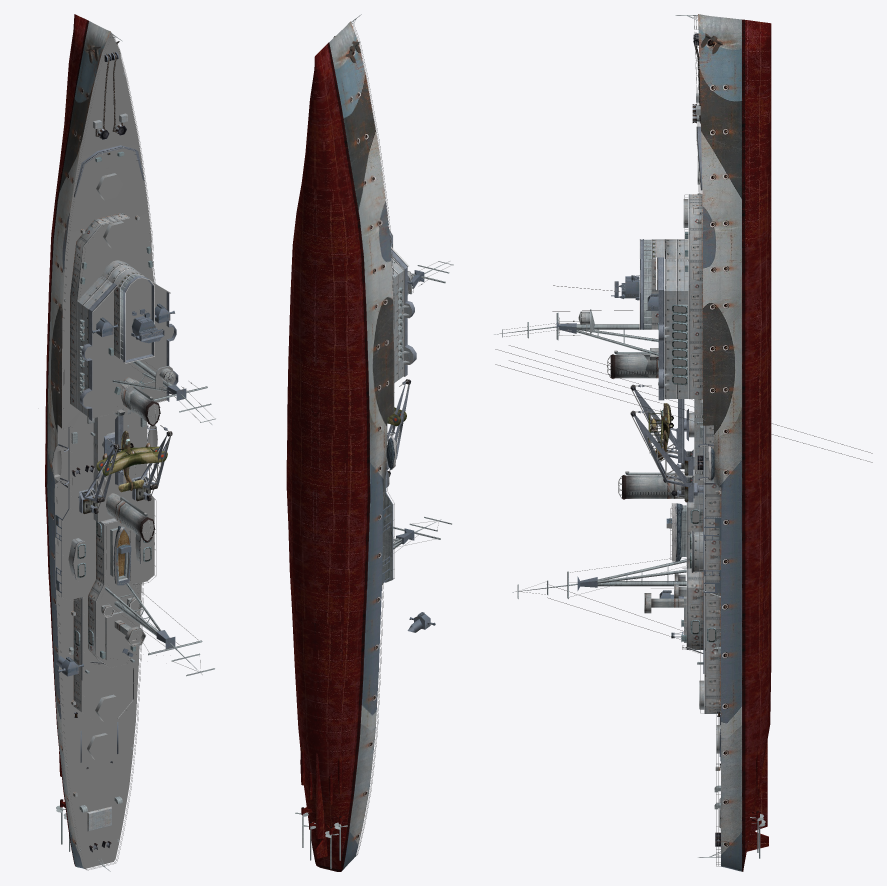
Rendered from fiji.obj.
3 views of the same model, side by side, from view 1: azimuth 30°, elevation 25°; view 2: azimuth 150°, elevation 25°; view 3: azimuth 270°, elevation 25° (orthographic). The views are drawn at different scales.
Visible parts, largest first — view 1: NCL_Fiji, NCL_Fiji_Walrus, NCL_Fiji_catarg02, NCL_Fiji_cos02, NCL_Fiji_catarg01, NCL_Fiji_crane02, NCL_Fiji_crane01, NCL_Fiji_salupa, NCL_Fiji_Topcos01, NCL_Fiji_plat02, NCL_Fiji_DirMain, NCL_Fiji_cabin (+2 smaller); view 2: NCL_Fiji, NCL_Fiji_crane02, NCL_Fiji_catarg02, NCL_Fiji_catarg01; view 3: NCL_Fiji, NCL_Fiji_catarg02, NCL_Fiji_cos02, NCL_Fiji_crane01, NCL_Fiji_catarg01, NCL_Fiji_Topcos01, NCL_Fiji_crane02, NCL_Fiji_Walrus.
Boxes of the visible parts, left/top/right/bottom form: NCL_Fiji: left=45, top=14, right=178, bottom=871; NCL_Fiji_Walrus: left=96, top=430, right=167, bottom=492; NCL_Fiji_catarg02: left=105, top=582, right=214, bottom=676; NCL_Fiji_cos02: left=106, top=493, right=155, bottom=542; NCL_Fiji_catarg01: left=112, top=359, right=215, bottom=424; NCL_Fiji_crane02: left=78, top=438, right=119, bottom=514; NCL_Fiji_crane01: left=132, top=425, right=172, bottom=501; NCL_Fiji_salupa: left=113, top=526, right=131, bottom=585; NCL_Fiji_Topcos01: left=130, top=386, right=160, bottom=426; NCL_Fiji_plat02: left=68, top=538, right=87, bottom=581; NCL_Fiji_DirMain: left=131, top=316, right=164, bottom=343; NCL_Fiji_cabin: left=114, top=269, right=154, bottom=292; NCL_Fiji: left=286, top=14, right=416, bottom=871; NCL_Fiji_crane02: left=386, top=379, right=410, bottom=487; NCL_Fiji_catarg02: left=393, top=517, right=451, bottom=552; NCL_Fiji_catarg01: left=407, top=261, right=453, bottom=294; NCL_Fiji: left=631, top=14, right=771, bottom=871; NCL_Fiji_catarg02: left=512, top=557, right=686, bottom=598; NCL_Fiji_cos02: left=618, top=471, right=694, bottom=499; NCL_Fiji_crane01: left=630, top=410, right=703, bottom=502; NCL_Fiji_catarg01: left=494, top=309, right=658, bottom=355; NCL_Fiji_Topcos01: left=607, top=350, right=649, bottom=378; NCL_Fiji_crane02: left=630, top=384, right=694, bottom=475; NCL_Fiji_Walrus: left=648, top=403, right=673, bottom=460.
Bounding box in the file's own units: 2.54 × 16.89 × 6.82.
